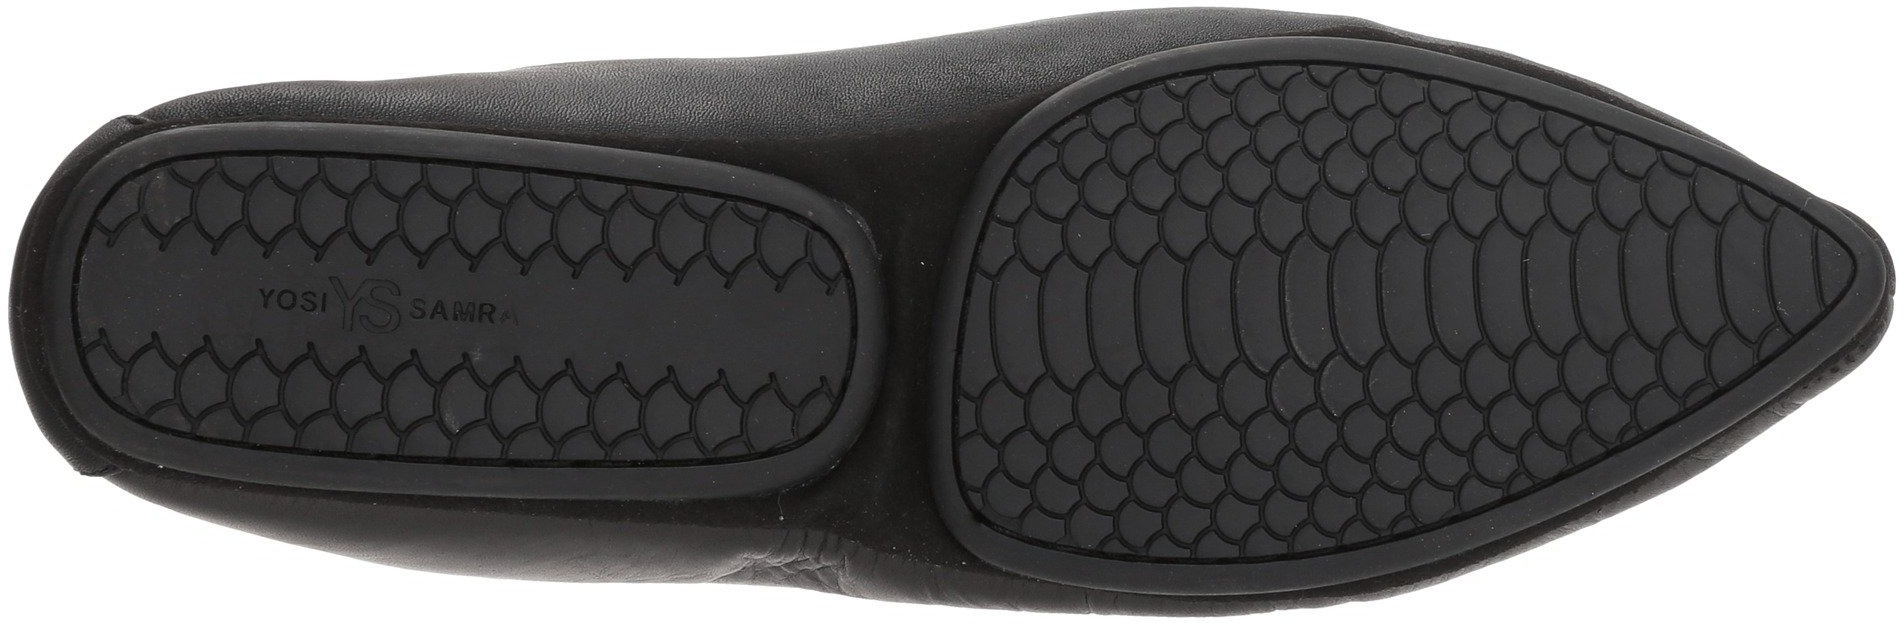circle: (1464, 157, 1718, 395), (1056, 351, 1263, 535), (1269, 69, 1456, 270), (1287, 335, 1478, 510), (1087, 100, 1256, 254), (308, 337, 438, 452), (117, 326, 237, 442)
other: (1105, 168, 1406, 465)
text: (370, 270, 515, 352), (280, 258, 355, 335)
